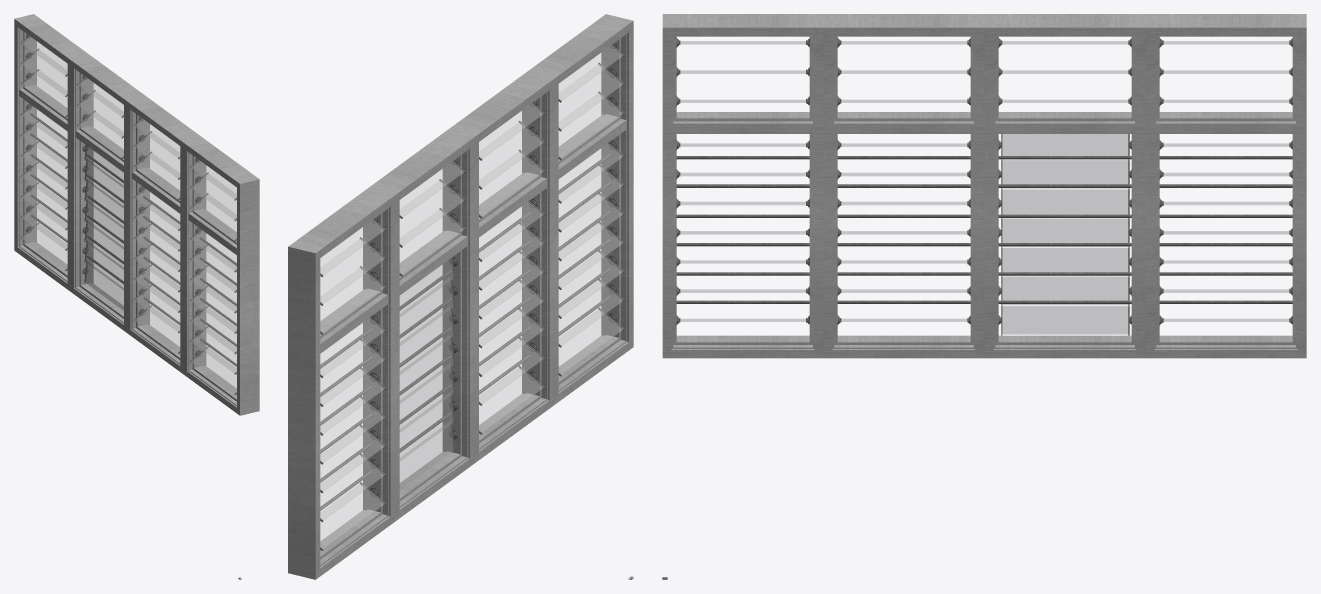
File: fabrica_template1.glb
3 renders of one model, left to right at view 1: azimuth 30°, elevation 25°; view 2: azimuth 150°, elevation 25°; view 3: azimuth 270°, elevation 25°, orthographic. The views are drawn at different scales.
Parts seen in each view (by area): view 1: Naco Window; view 2: Naco Window; view 3: Naco Window.
Part boxes in pixels (bbox=[...]): Naco Window: bbox=[14, 14, 259, 415]; Naco Window: bbox=[288, 14, 633, 579]; Naco Window: bbox=[662, 14, 1306, 358].
Size of the model in its own units: 151 by 2902 by 3001.
7 materials, 2 textured.
